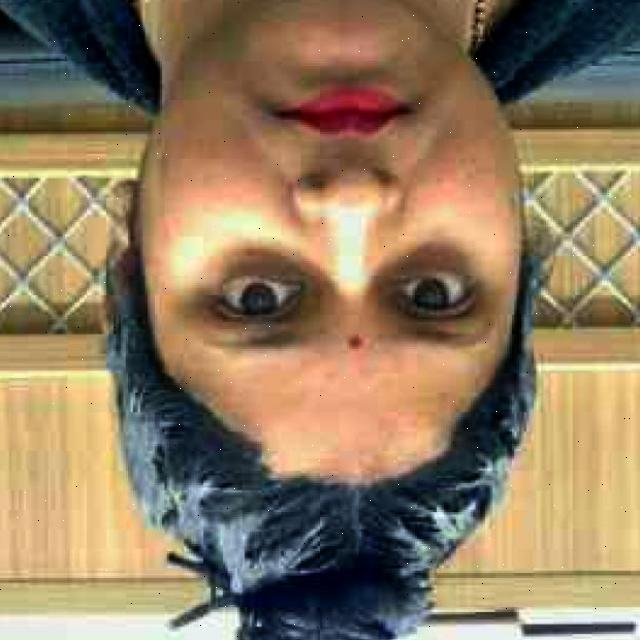puffy_eyes: (382, 243, 467, 279), (207, 252, 305, 280)
